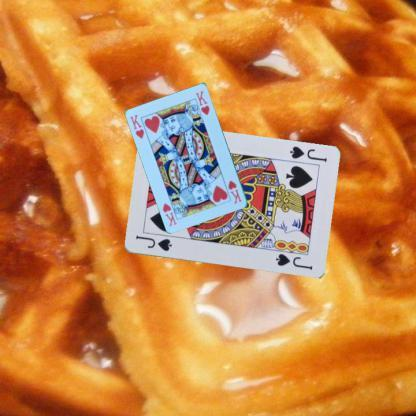Js: (133, 232, 173, 253), (286, 144, 328, 164)
Kh: (127, 112, 146, 140), (225, 178, 243, 205)
